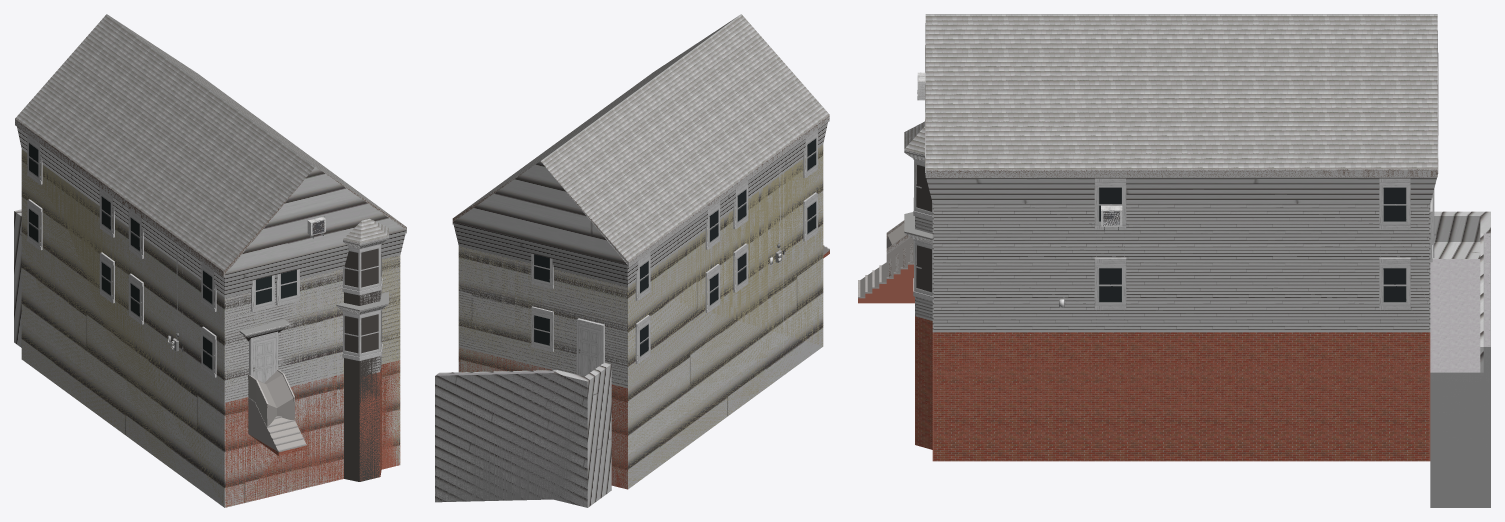
File: eca_bld_house_05_e.dae
3 renders of one model, left to right at view 1: azimuth 30°, elevation 25°; view 2: azimuth 150°, elevation 25°; view 3: azimuth 270°, elevation 25°, orthographic. The views are drawn at different scales.
Parts seen in each view (by area): view 1: Colmesh-1, eca_bld_house_05_e_a800, eca_bld_house_05_e_a20, eca_bld_house_05_e_a350; view 2: Colmesh-1, eca_bld_house_05_e_a800, eca_bld_house_05_e_a20, eca_bld_house_05_e_a350; view 3: eca_bld_house_05_e_a800, eca_bld_house_05_e_a350, Colmesh-1.
Boxes of the visible parts, x1=… form: Colmesh-1: x1=14, y1=127, x2=406, y2=507; eca_bld_house_05_e_a800: x1=15, y1=14, x2=406, y2=507; eca_bld_house_05_e_a20: x1=21, y1=149, x2=400, y2=506; eca_bld_house_05_e_a350: x1=15, y1=119, x2=406, y2=503; Colmesh-1: x1=435, y1=122, x2=829, y2=507; eca_bld_house_05_e_a800: x1=435, y1=14, x2=829, y2=506; eca_bld_house_05_e_a20: x1=458, y1=145, x2=823, y2=487; eca_bld_house_05_e_a350: x1=435, y1=116, x2=829, y2=507; eca_bld_house_05_e_a800: x1=858, y1=14, x2=1490, y2=461; eca_bld_house_05_e_a350: x1=858, y1=81, x2=1490, y2=507; Colmesh-1: x1=860, y1=23, x2=1490, y2=372.
Bounding box in the file's own units: 7.6 × 17.8 × 13.7.
